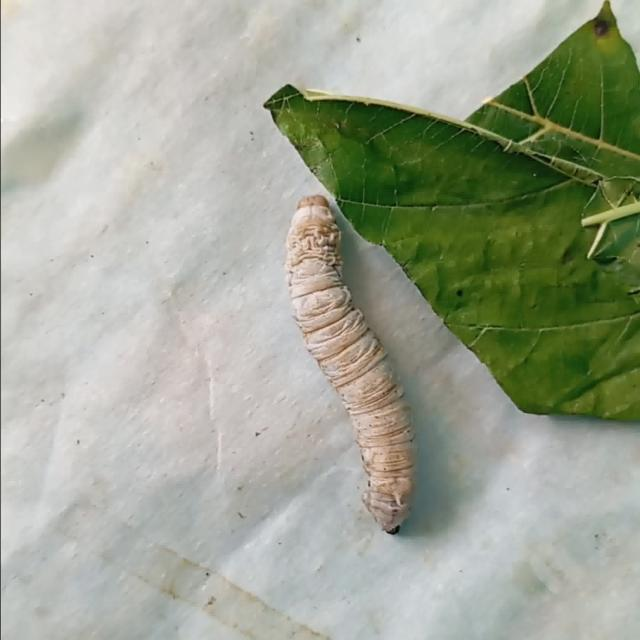Grasserie: (259, 169, 437, 545)
